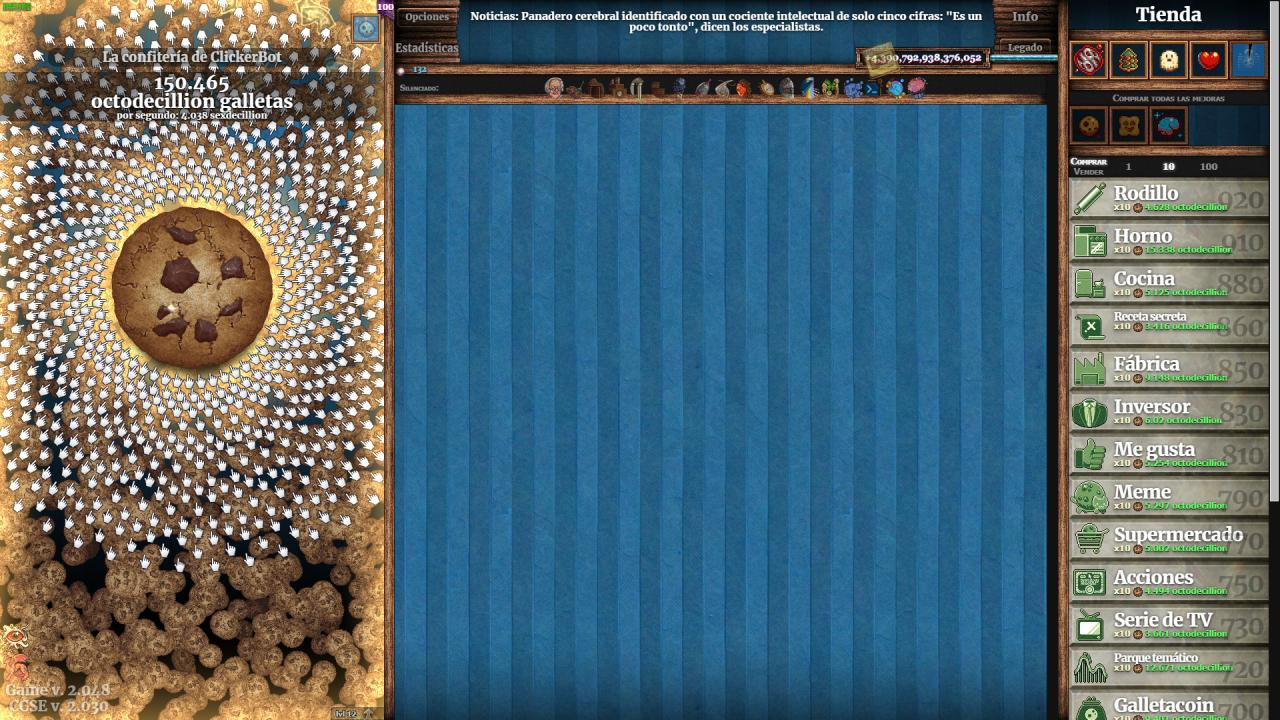GoldenCartridge: (861, 40, 901, 81)
